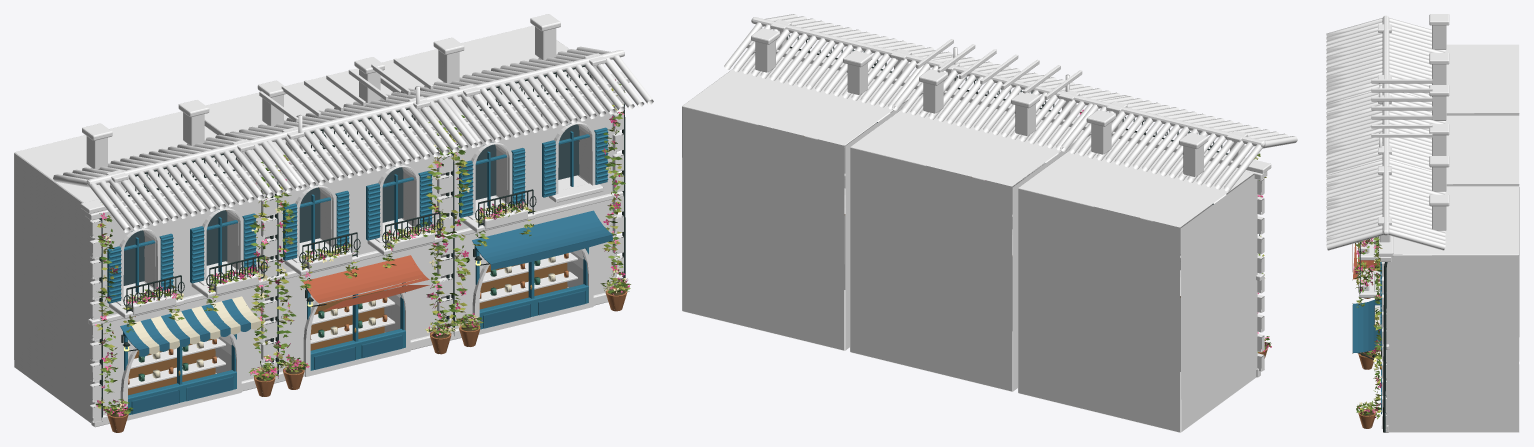
The model's file is MansionRow_LOD1.glb.
The picture shows the model from 3 angles, left to right: view 1: azimuth 30°, elevation 25°; view 2: azimuth 150°, elevation 25°; view 3: azimuth 270°, elevation 25°; orthographic projection. The views are drawn at different scales.
Visible parts, largest first — view 1: RK_MansionRow_LOD1_RK_CreamPlaster, RK_MansionRow_LOD1_RK_Tile, RK_MansionRow_LOD1_RK_Stone, RK_MansionRow_LOD1_RK_CoralPlaster, RK_MansionRow_LOD1_RK_Blue, RK_MansionRow_LOD1_RK_CanvasBlue, RK_MansionRow_LOD1_RK_Wood, RK_MansionRow_LOD1_RK_Iron, RK_MansionRow_LOD1_RK_Glass, RK_MansionRow_LOD1_RK_Interior, RK_MansionRow_LOD1_RK_LeafGold, RK_MansionRow_LOD1_RK_Leaf (+7 smaller); view 2: RK_MansionRow_LOD1_RK_CreamPlaster, RK_MansionRow_LOD1_RK_CoralPlaster, RK_MansionRow_LOD1_RK_Tile, RK_MansionRow_LOD1_RK_Stone, RK_MansionRow_LOD1_RK_Wood; view 3: RK_MansionRow_LOD1_RK_CreamPlaster, RK_MansionRow_LOD1_RK_Tile, RK_MansionRow_LOD1_RK_CoralPlaster, RK_MansionRow_LOD1_RK_Stone, RK_MansionRow_LOD1_RK_Wood, RK_MansionRow_LOD1_RK_CanvasBlue, RK_MansionRow_LOD1_RK_Leaf, RK_MansionRow_LOD1_RK_Iron, RK_MansionRow_LOD1_RK_LeafDark, RK_MansionRow_LOD1_RK_LeafGold, RK_MansionRow_LOD1_RK_Terracotta, RK_MansionRow_LOD1_RK_RedCanvas (+1 smaller).
Part boxes in pixels (x1,y1,x2,y2): RK_MansionRow_LOD1_RK_CreamPlaster: (14, 25, 616, 422); RK_MansionRow_LOD1_RK_Tile: (53, 14, 653, 232); RK_MansionRow_LOD1_RK_Stone: (80, 53, 629, 427); RK_MansionRow_LOD1_RK_CoralPlaster: (204, 68, 440, 372); RK_MansionRow_LOD1_RK_Blue: (107, 127, 608, 414); RK_MansionRow_LOD1_RK_CanvasBlue: (120, 210, 612, 414); RK_MansionRow_LOD1_RK_Wood: (128, 58, 577, 388); RK_MansionRow_LOD1_RK_Iron: (99, 65, 625, 421); RK_MansionRow_LOD1_RK_Glass: (123, 123, 579, 285); RK_MansionRow_LOD1_RK_Interior: (128, 188, 567, 395); RK_MansionRow_LOD1_RK_LeafGold: (96, 88, 630, 414); RK_MansionRow_LOD1_RK_Leaf: (97, 112, 630, 414); RK_MansionRow_LOD1_RK_CreamPlaster: (682, 40, 1257, 432); RK_MansionRow_LOD1_RK_CoralPlaster: (850, 94, 1082, 391); RK_MansionRow_LOD1_RK_Tile: (724, 14, 1297, 191); RK_MansionRow_LOD1_RK_Stone: (746, 19, 1271, 377); RK_MansionRow_LOD1_RK_Wood: (916, 39, 1082, 99); RK_MansionRow_LOD1_RK_CreamPlaster: (1386, 25, 1519, 432); RK_MansionRow_LOD1_RK_Tile: (1326, 14, 1449, 250); RK_MansionRow_LOD1_RK_CoralPlaster: (1445, 115, 1519, 361); RK_MansionRow_LOD1_RK_Stone: (1358, 24, 1393, 432); RK_MansionRow_LOD1_RK_Wood: (1371, 79, 1432, 147); RK_MansionRow_LOD1_RK_CanvasBlue: (1352, 298, 1382, 414); RK_MansionRow_LOD1_RK_Leaf: (1354, 237, 1381, 419); RK_MansionRow_LOD1_RK_Iron: (1358, 241, 1387, 432); RK_MansionRow_LOD1_RK_LeafDark: (1355, 236, 1381, 417); RK_MansionRow_LOD1_RK_LeafGold: (1354, 241, 1382, 416); RK_MansionRow_LOD1_RK_Terracotta: (1358, 298, 1376, 428); RK_MansionRow_LOD1_RK_RedCanvas: (1352, 243, 1380, 279).
Size of the model in its own units: 19.36 by 9.12 by 7.23.
